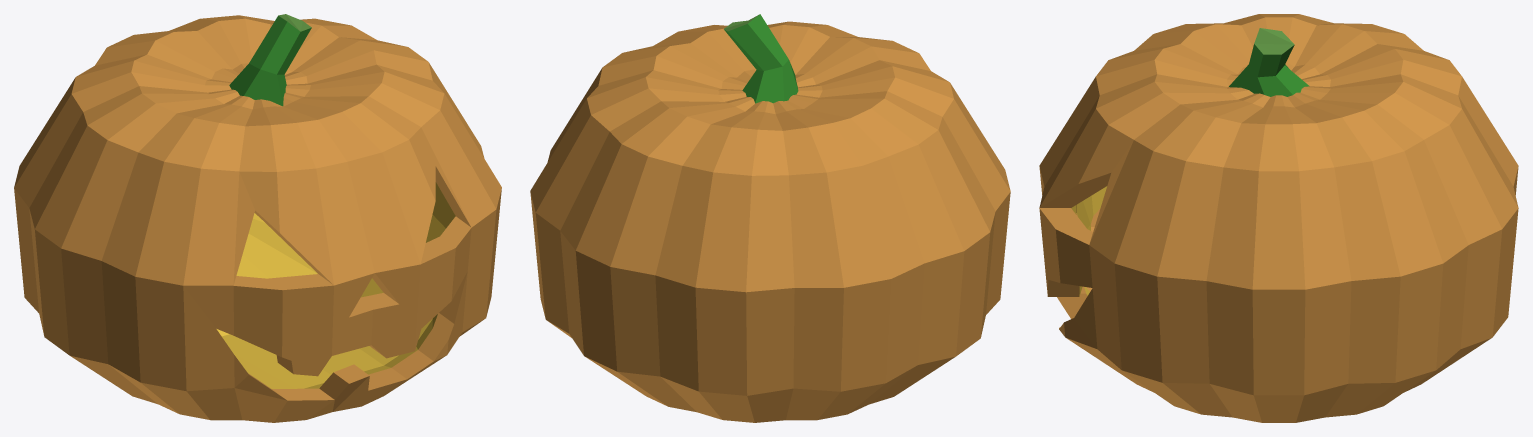
Rendered from pumpkin_1_empty_mat.fbx.
3 views of the same model, side by side, from view 1: azimuth 30°, elevation 25°; view 2: azimuth 150°, elevation 25°; view 3: azimuth 270°, elevation 25° (orthographic).
Visible parts, largest first — view 1: pumpkin_1_empty_mat; view 2: pumpkin_1_empty_mat; view 3: pumpkin_1_empty_mat.
Part boxes in pixels (x1=…): pumpkin_1_empty_mat: x1=14, y1=14, x2=501, y2=422; pumpkin_1_empty_mat: x1=530, y1=14, x2=1010, y2=422; pumpkin_1_empty_mat: x1=1039, y1=14, x2=1518, y2=422.
Bounding box in the file's own units: 235 × 181 × 232.
